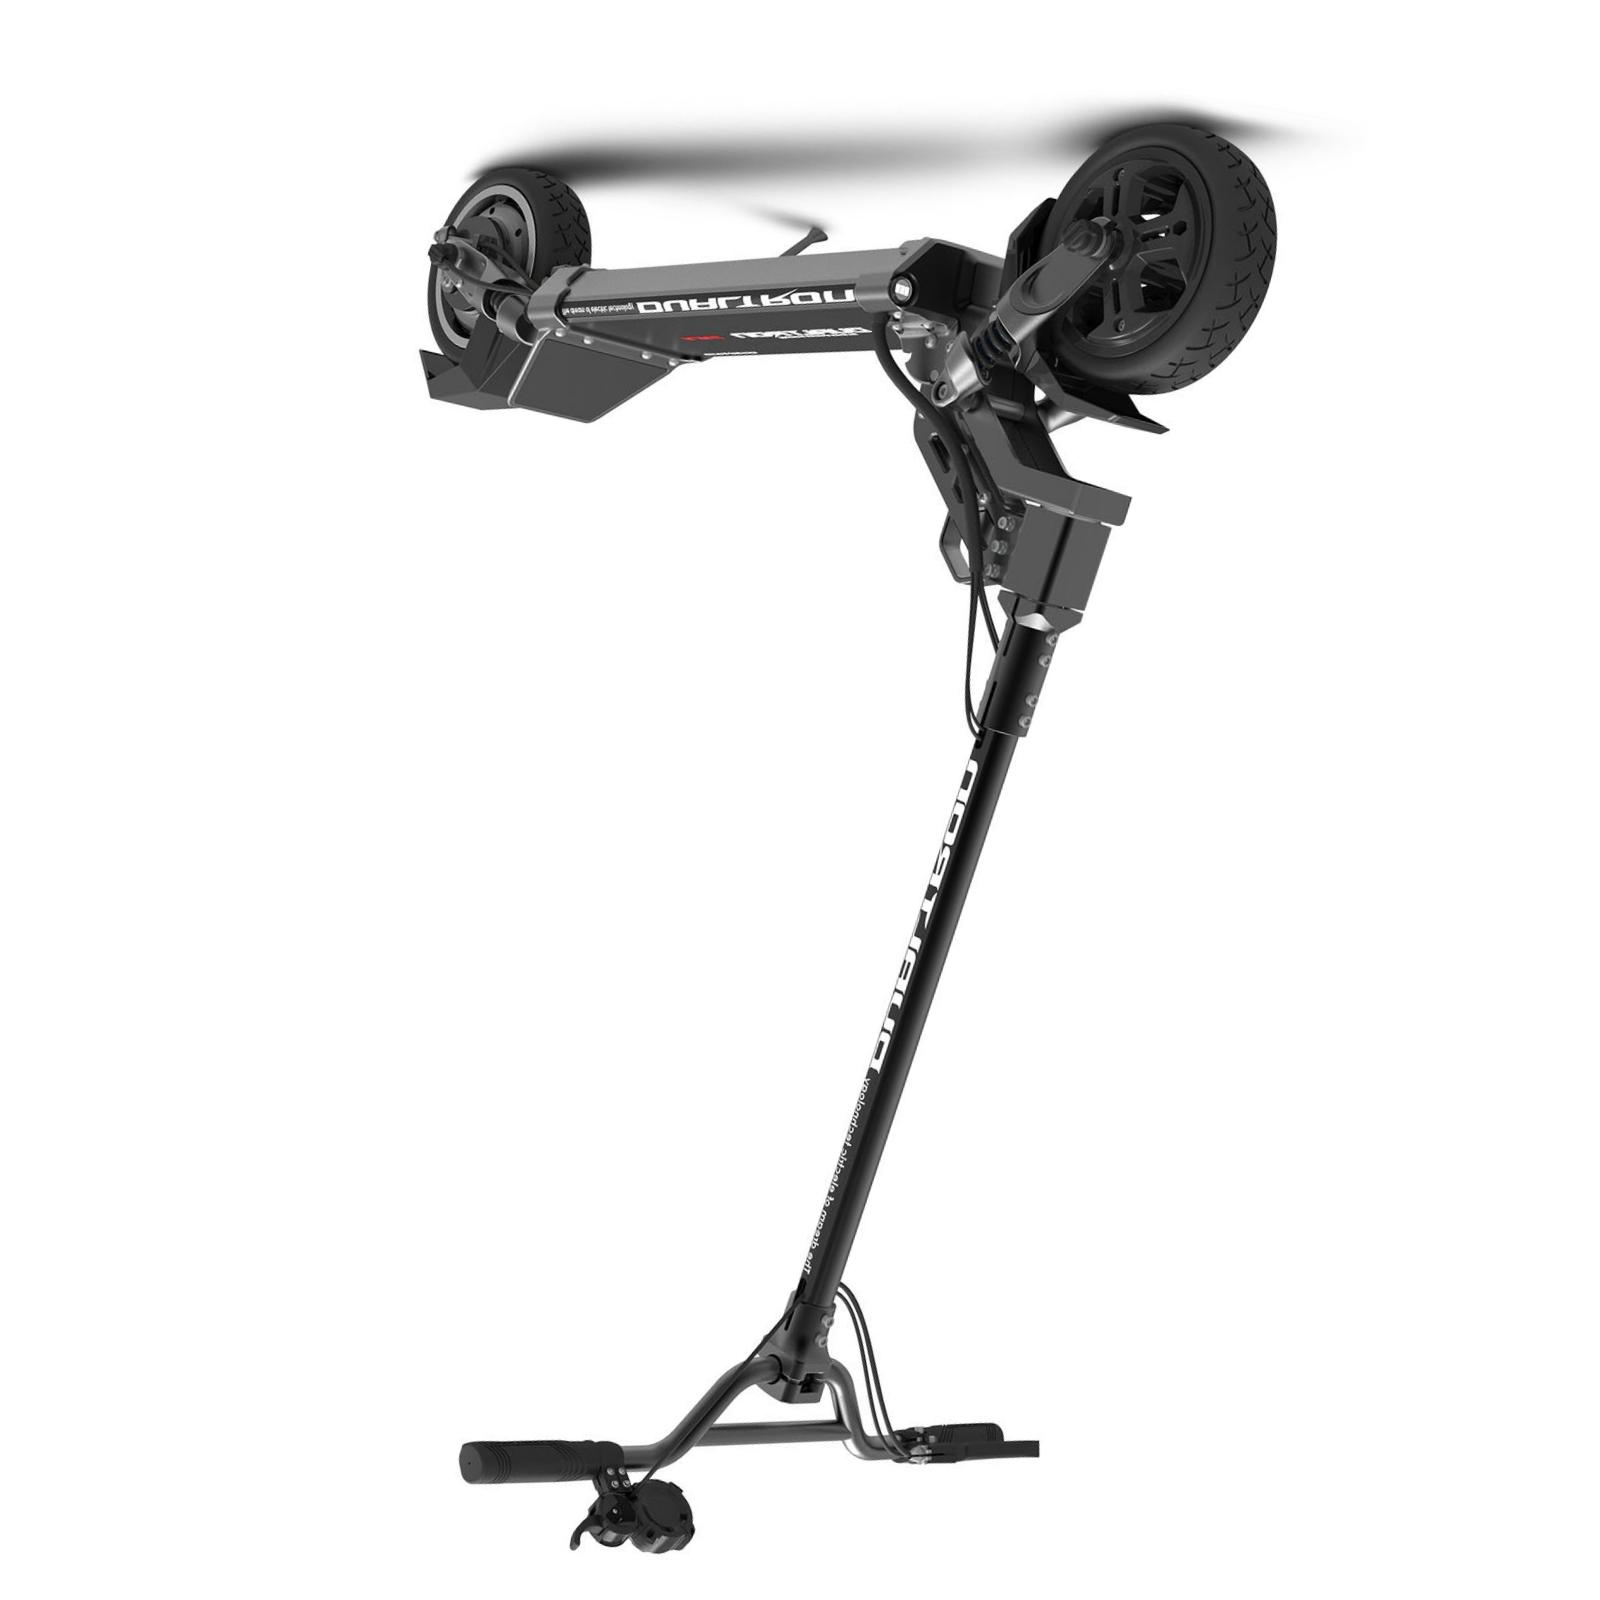scooter: (421, 122, 1279, 1546)
